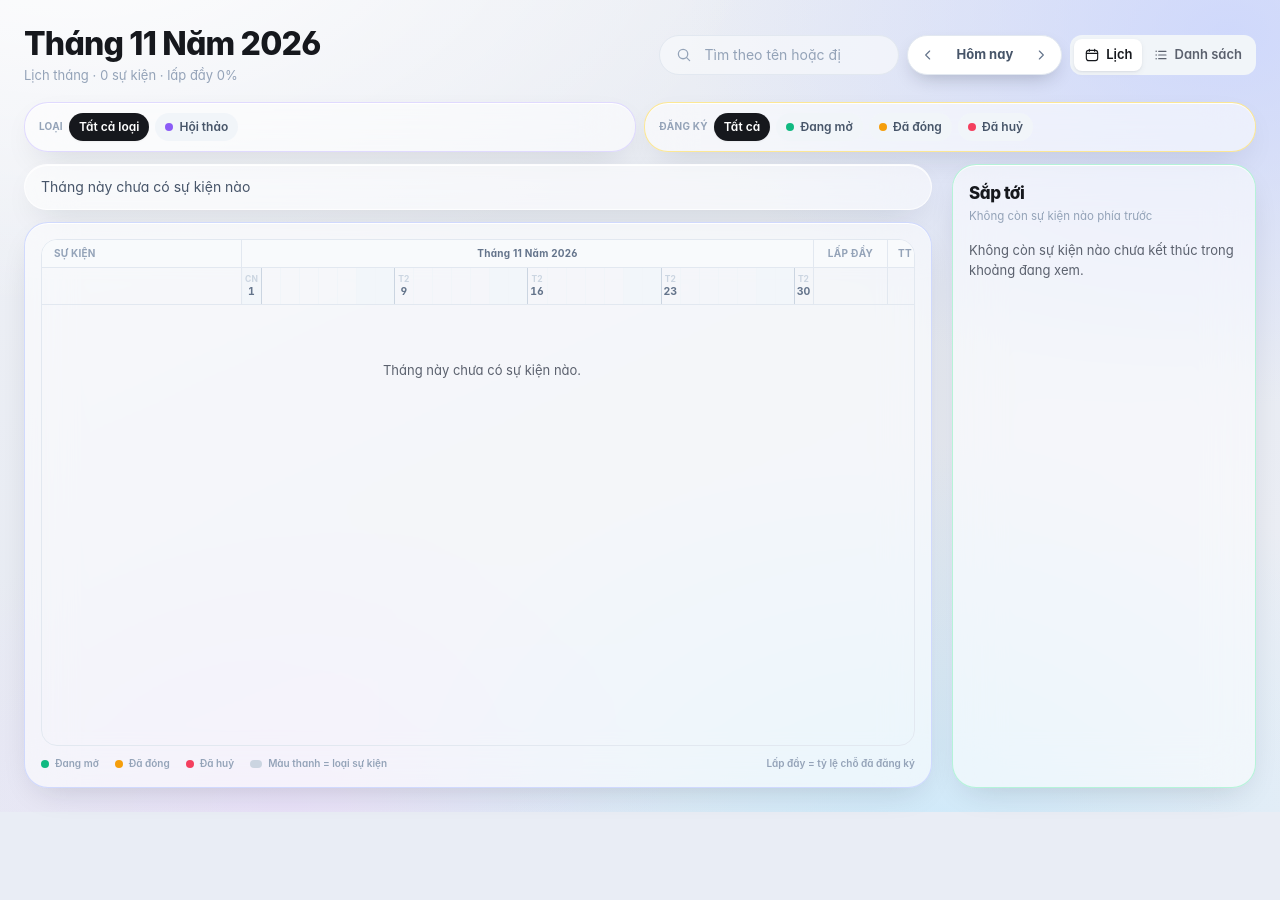
Test: EventListPage — chế độ lịch › bấm Hôm nay thì kéo lịch về đúng tháng chứa hôm nay
Expected: the heading "tháng 11 năm 2026" is shown, [24,24,320,63]
Click the button "Hôm nay" at (985, 55), box [944,39,1025,71]
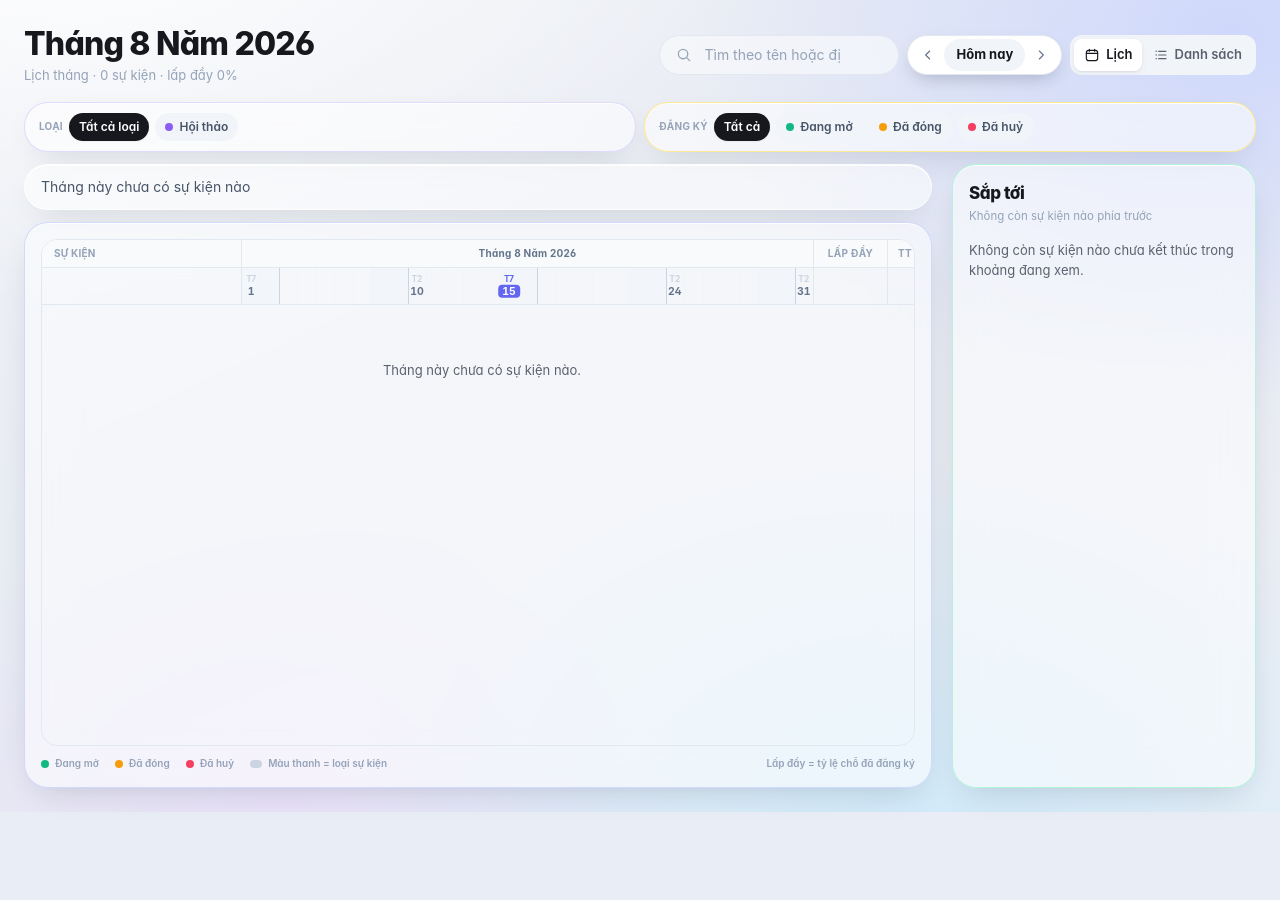
Result: the heading "tháng 8 năm 2026" is shown at [24,24,314,63]
